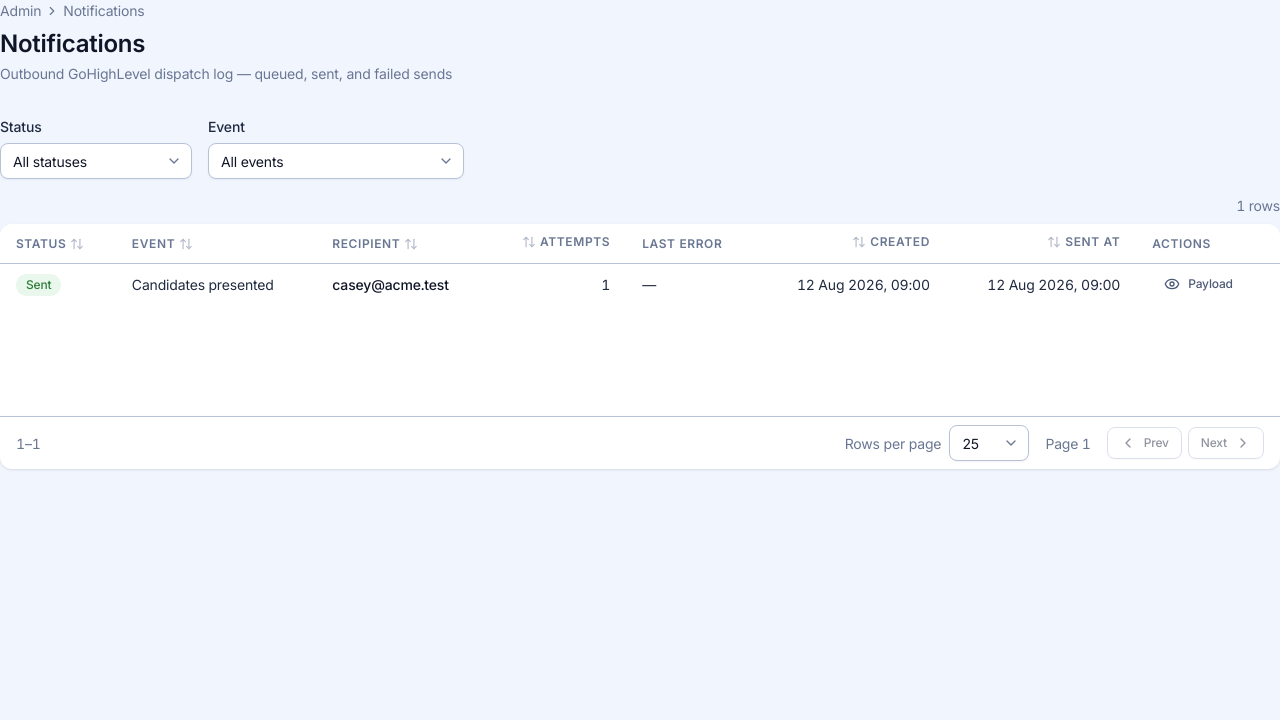
Test: notification log page › shows the stored payload pretty-printed in the sheet
Click the button "Payload": (1198,284) 1152,268 -> 1245,300
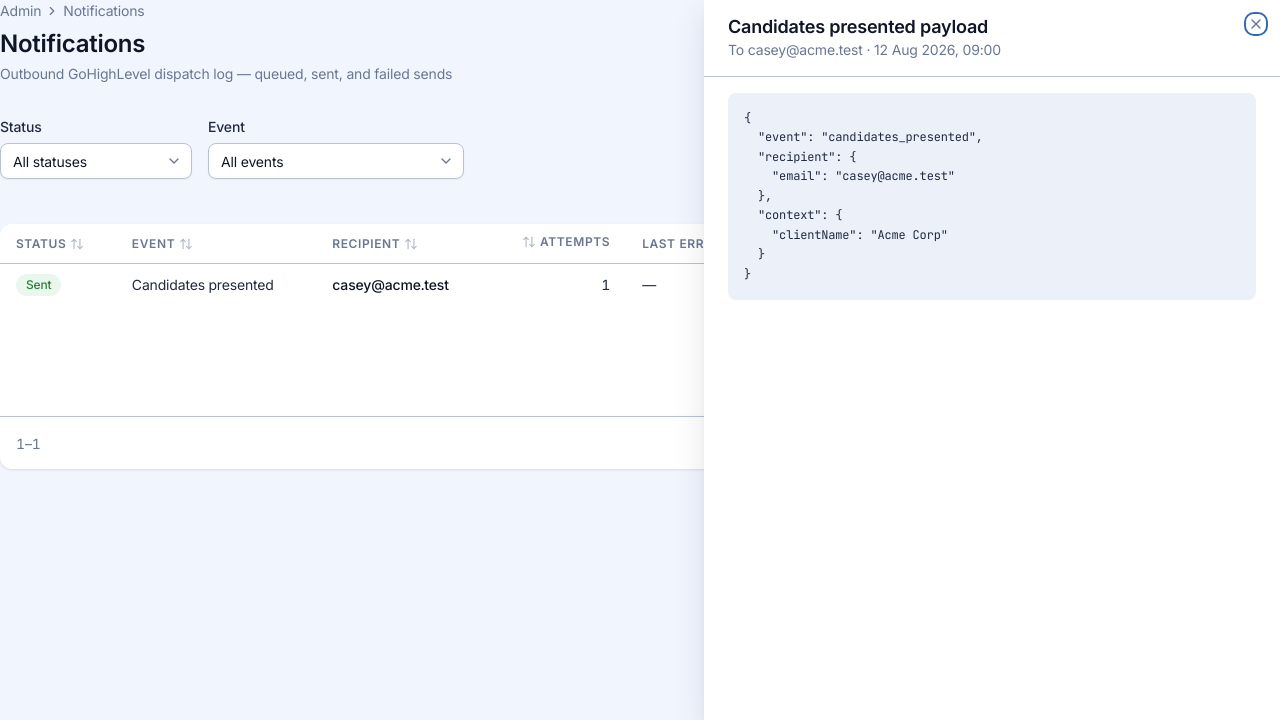
Result: the heading "Candidates presented payload" is shown at 728,16 -> 988,37
